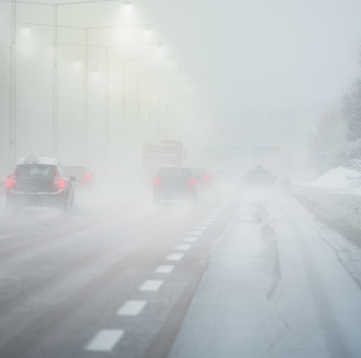car: (4, 155, 74, 211), (151, 165, 197, 208), (239, 165, 277, 198), (61, 164, 93, 185), (195, 166, 213, 194)
truck: (142, 134, 187, 170)
